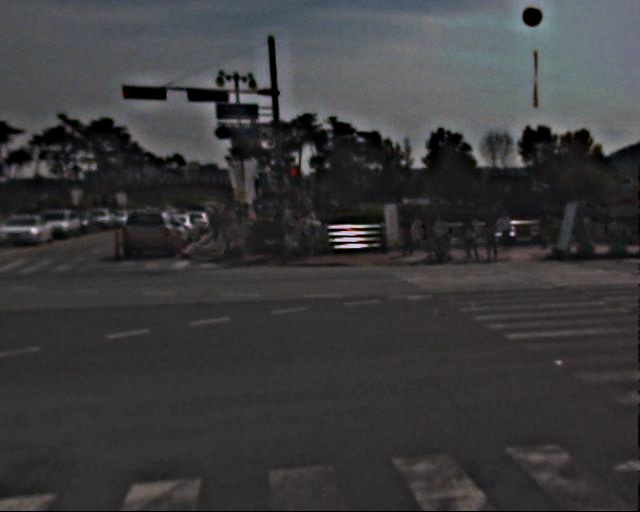person: (408, 210, 522, 267), (212, 207, 263, 247), (276, 209, 297, 261), (305, 211, 324, 258)
